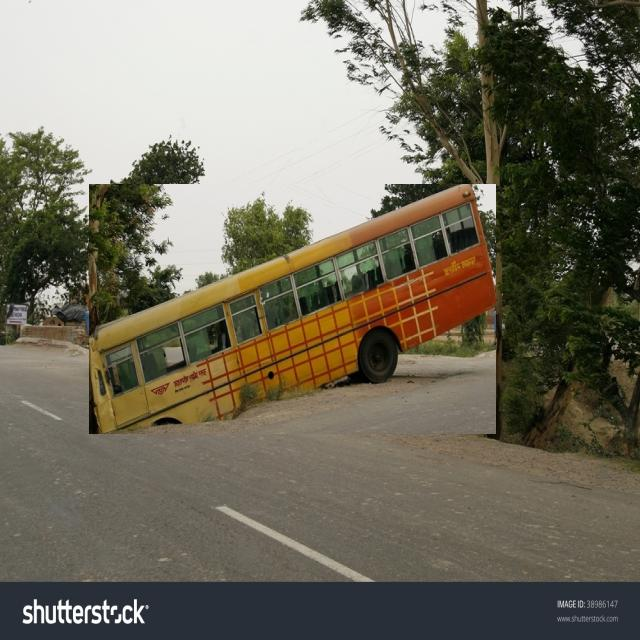accident: (89, 184, 496, 434)
